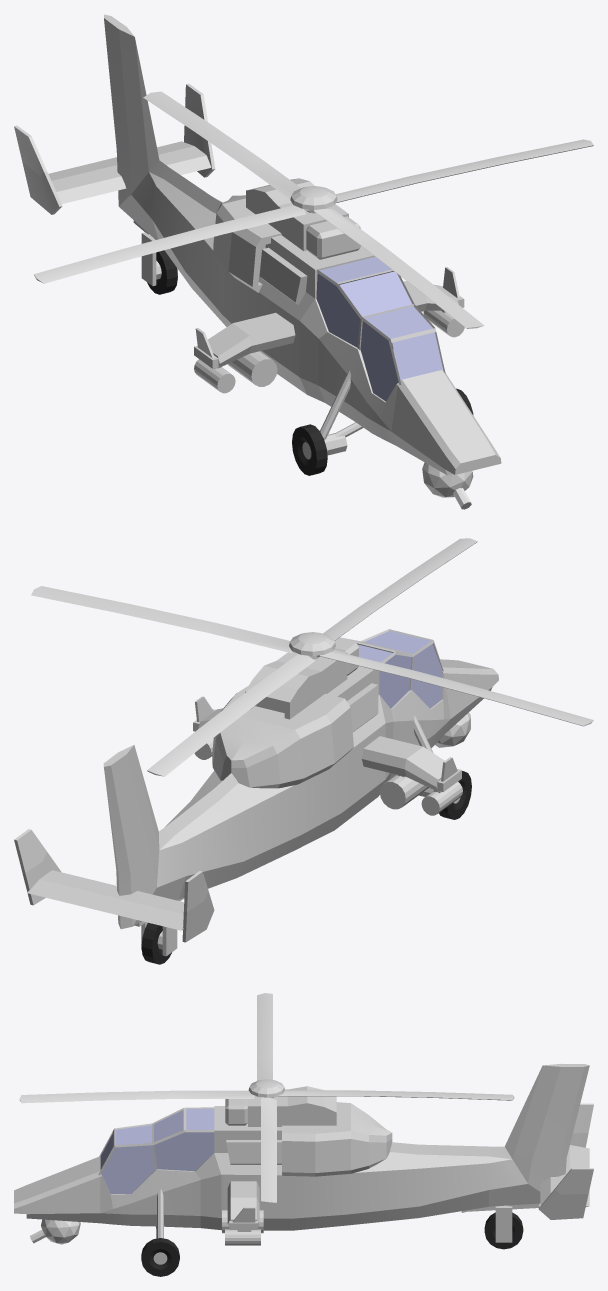
File: helicopter.fbx
3 renders of one model, top to bottom at view 1: azimuth 30°, elevation 25°; view 2: azimuth 150°, elevation 25°; view 3: azimuth 270°, elevation 25°, orthographic. The views are drawn at different scales.
Visible parts, largest first — view 1: Hull, Rotor, Turret; view 2: Hull, Rotor, Turret; view 3: Hull, Rotor, Turret.
Boxes of the visible parts, x1,y1,x2,y2 form: Hull: (14, 14, 501, 475); Rotor: (34, 91, 593, 328); Turret: (422, 462, 473, 509); Hull: (14, 629, 498, 964); Rotor: (31, 538, 593, 776); Turret: (435, 712, 470, 747); Hull: (14, 1063, 593, 1276); Rotor: (19, 993, 514, 1203); Turret: (30, 1219, 80, 1244).
Size of the model in its own units: 12.68 by 5.14 by 14.86.
